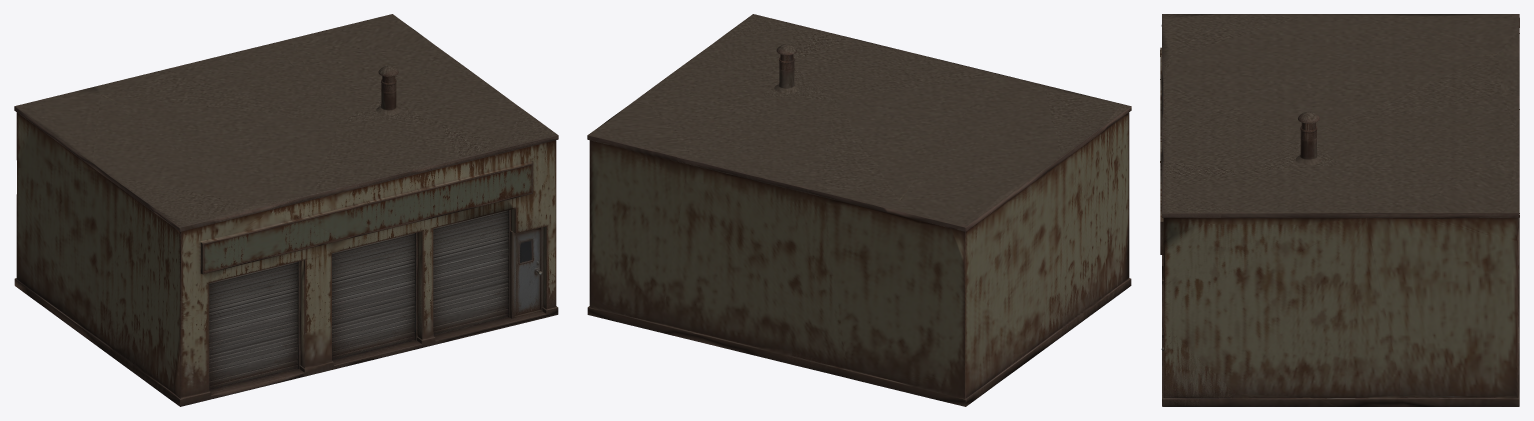
File: job-chop-shop.glb
The picture shows the model from 3 angles, left to right: view 1: azimuth 30°, elevation 25°; view 2: azimuth 150°, elevation 25°; view 3: azimuth 270°, elevation 25°; orthographic projection. The views are drawn at different scales.
Size of the model in its own units: 12.43 by 7 by 9.48.
3 materials, 3 textured.
